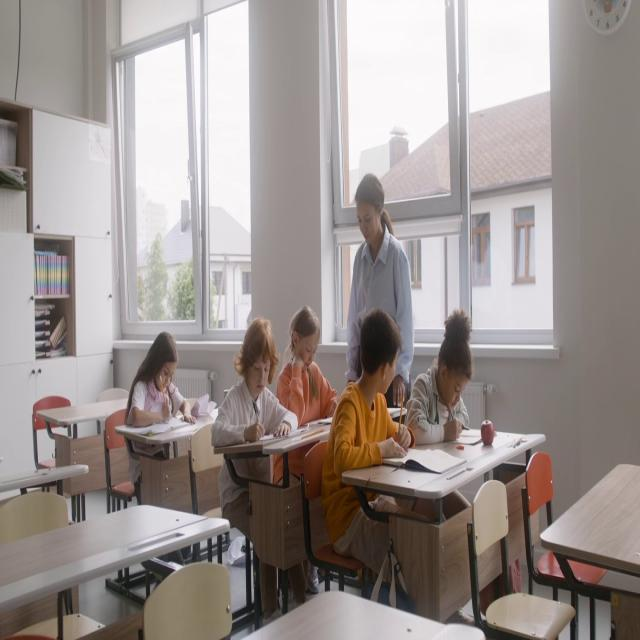reading: (280, 305, 338, 472)
turning: (323, 308, 422, 613)
writing: (211, 318, 299, 618), (126, 332, 202, 572), (404, 311, 473, 444)
